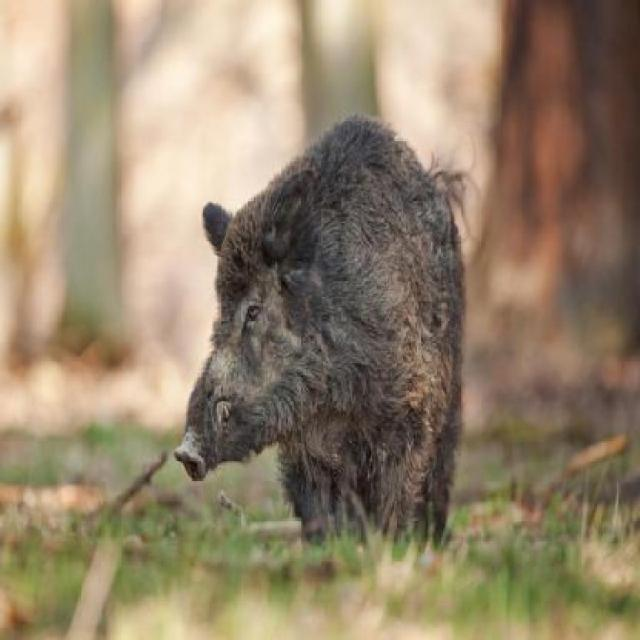wildboar: (168, 110, 468, 565)
